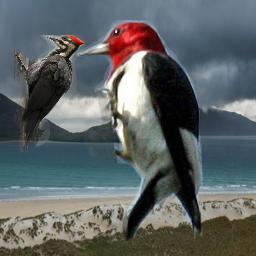Woodpecker: (74, 20, 205, 241), (14, 35, 85, 152)
